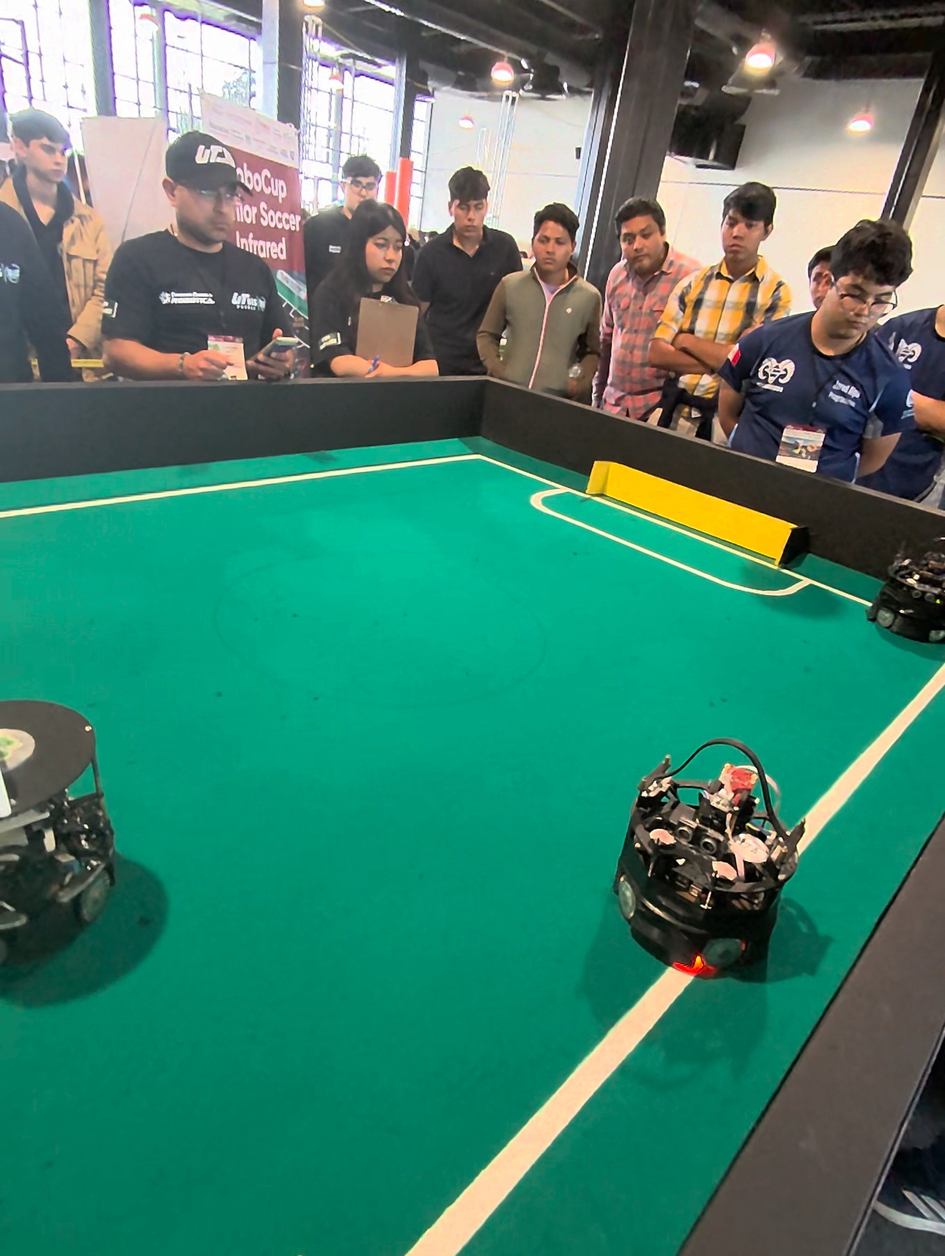Robot: (617, 722, 815, 991), (0, 665, 163, 991), (870, 531, 945, 652)
